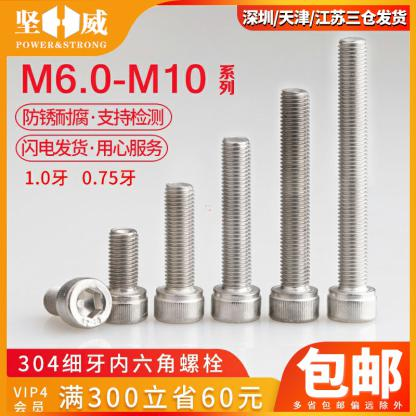FOD: (325, 35, 381, 324), (267, 86, 322, 323), (212, 136, 264, 324), (154, 180, 206, 325), (89, 226, 150, 326), (43, 275, 113, 329)
